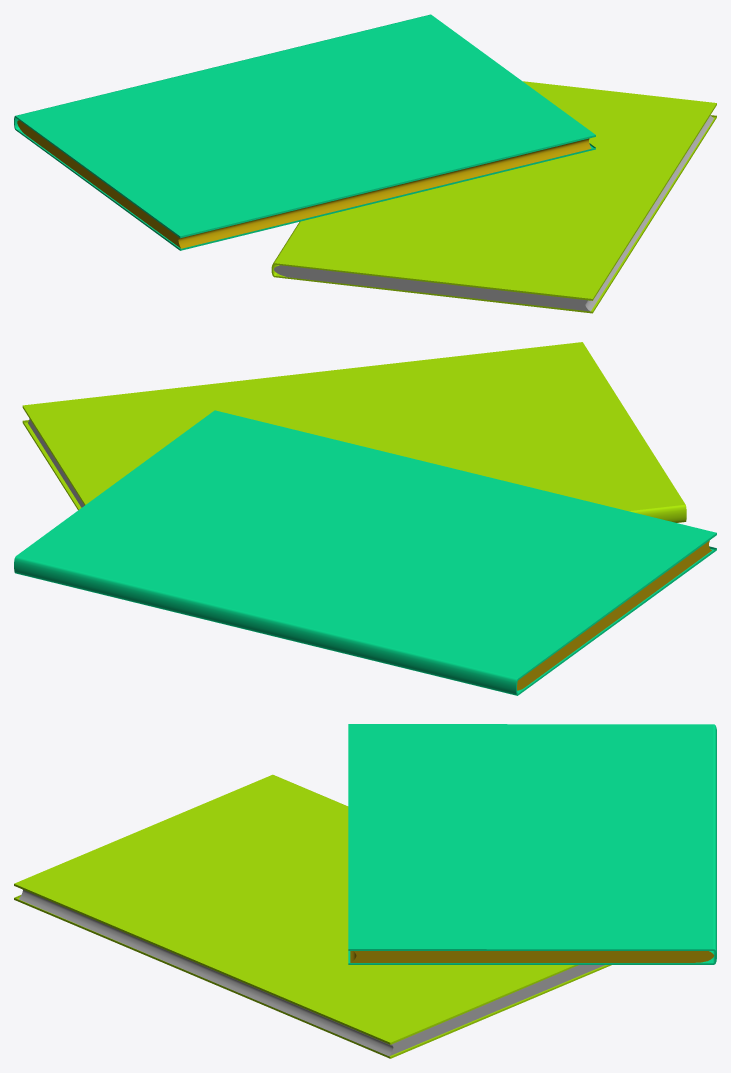
File: magazines.fbx
3 renders of one model, top to bottom at view 1: azimuth 30°, elevation 25°; view 2: azimuth 150°, elevation 25°; view 3: azimuth 270°, elevation 25°, orthographic. The views are drawn at different scales.
Parts seen in each view (by area): view 1: cover_2, cover_1, pages_2, pages_1; view 2: cover_2, cover_1, pages_2; view 3: cover_2, cover_1, pages_1, pages_2.
Boxes of the visible parts, x1,y1,x2,y2 form: cover_2: [14, 14, 595, 250]; cover_1: [271, 81, 716, 313]; pages_2: [17, 120, 591, 248]; pages_1: [274, 115, 713, 311]; cover_2: [14, 410, 716, 695]; cover_1: [22, 342, 686, 522]; pages_2: [517, 540, 711, 690]; cover_2: [348, 724, 716, 964]; cover_1: [14, 774, 611, 1058]; pages_1: [19, 890, 604, 1056]; pages_2: [350, 951, 714, 962].
Bounding box in the file's own units: 126 × 6.65 × 124.
